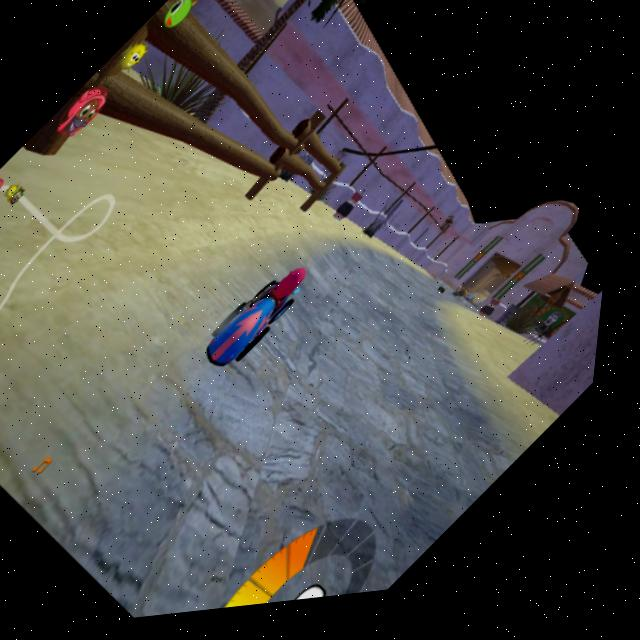enemy_kart: (440, 286, 464, 310)
off_track: (173, 0, 514, 314), (461, 314, 599, 454)
player_kart: (208, 261, 327, 380)
track: (169, 244, 484, 561)
